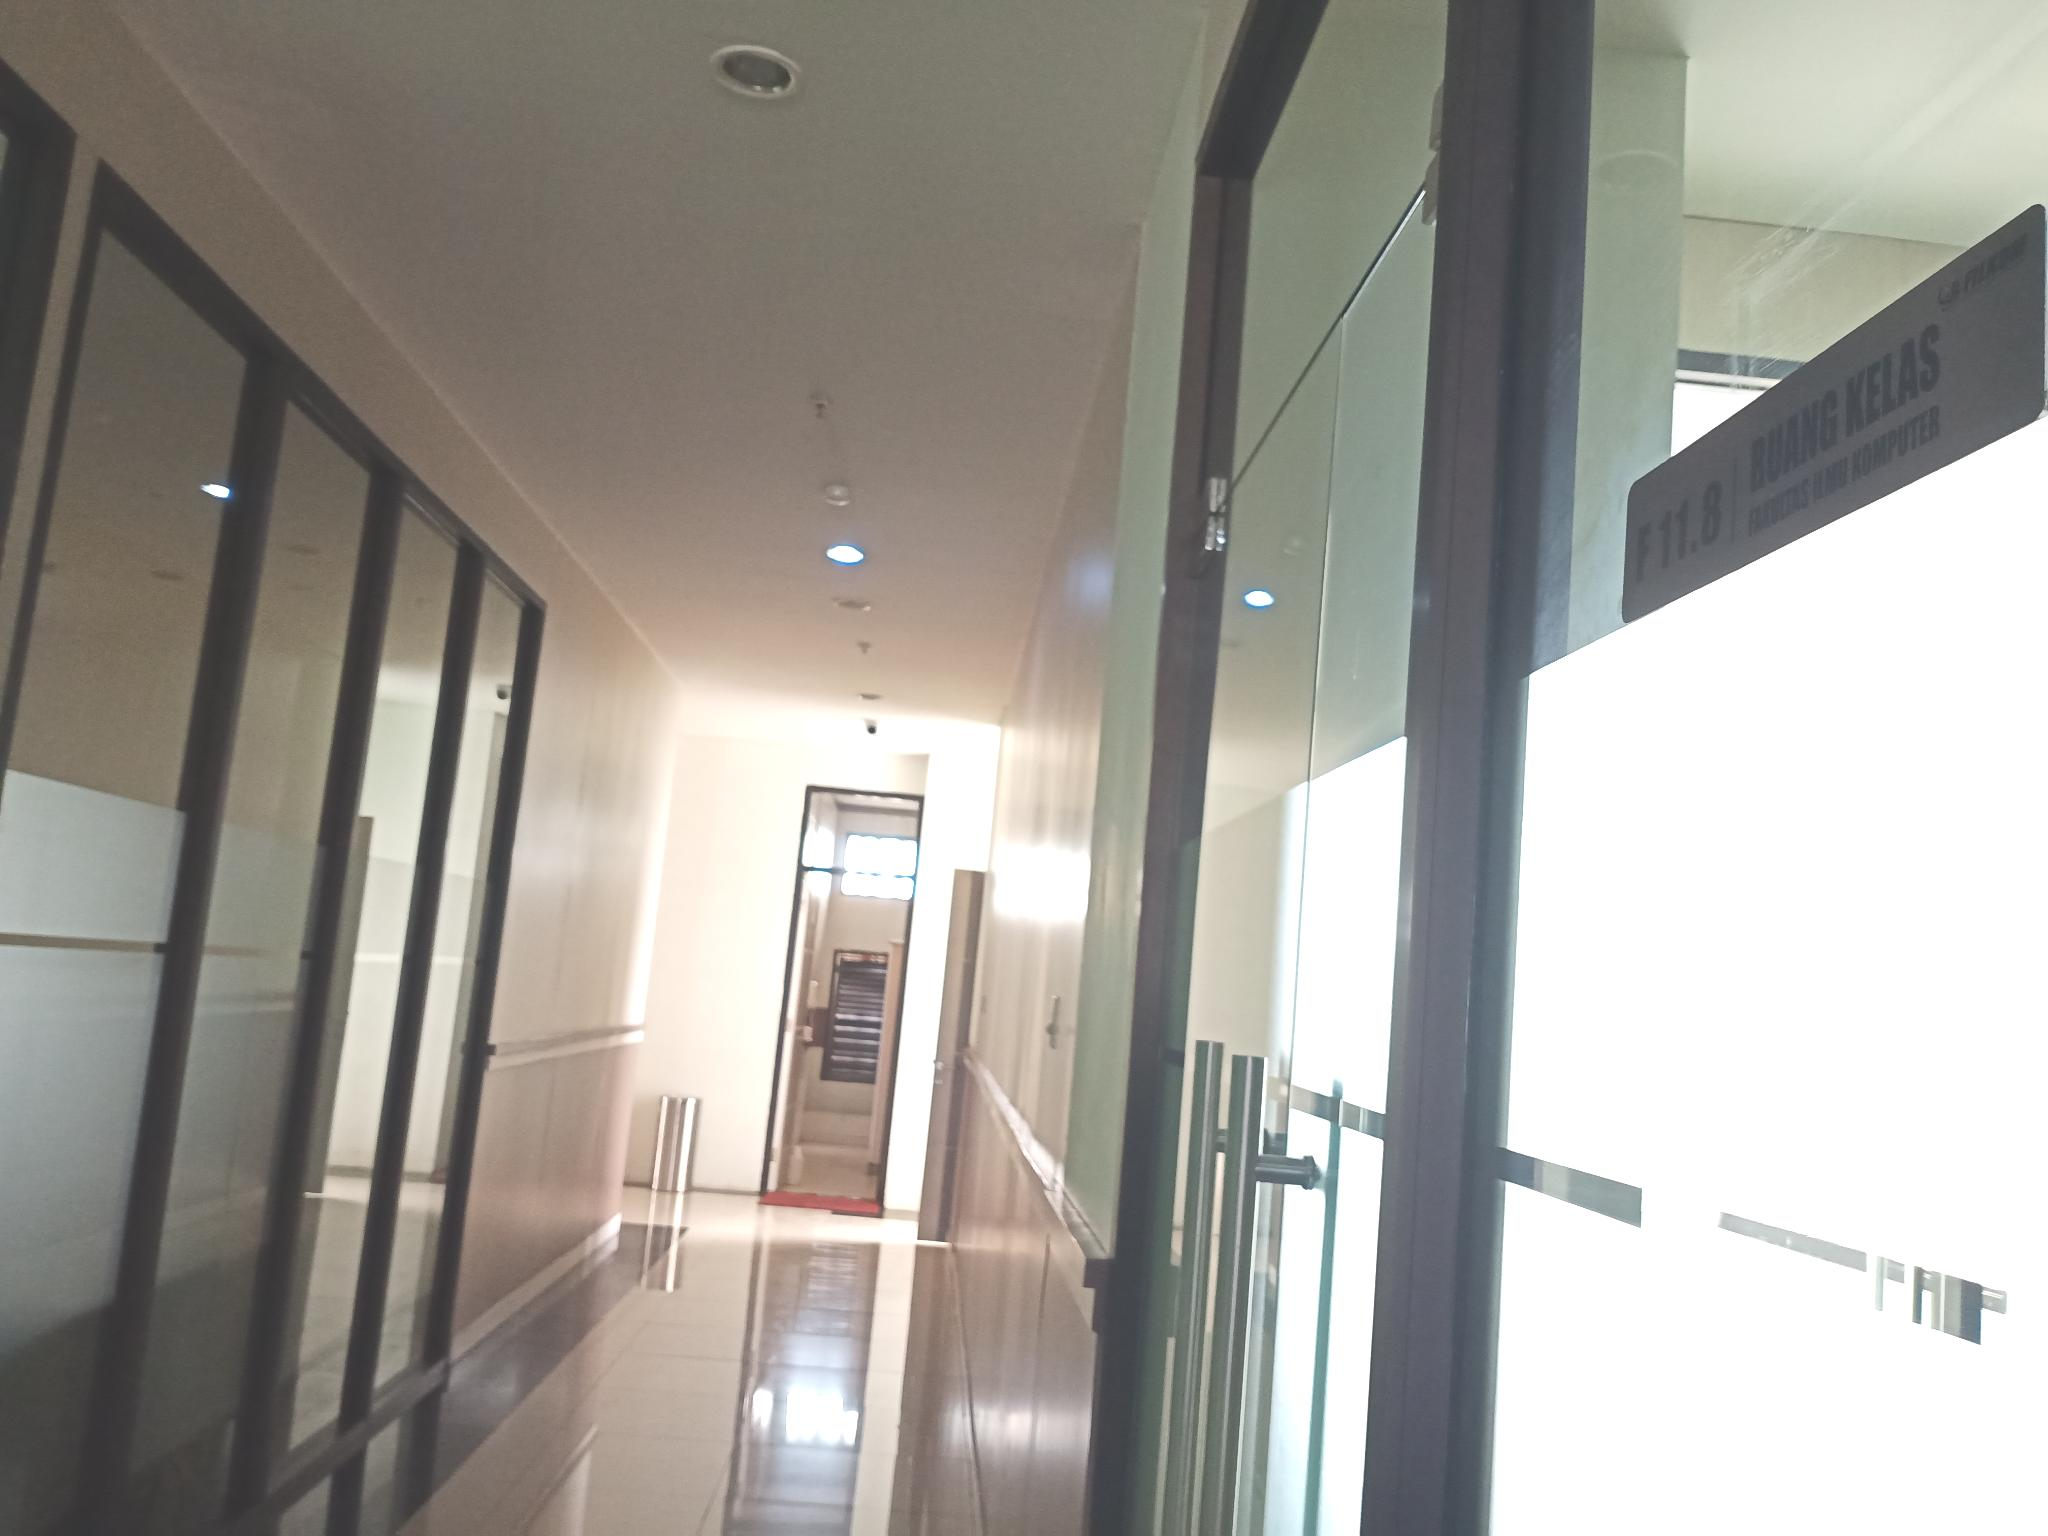plate: (1616, 192, 2048, 631)
